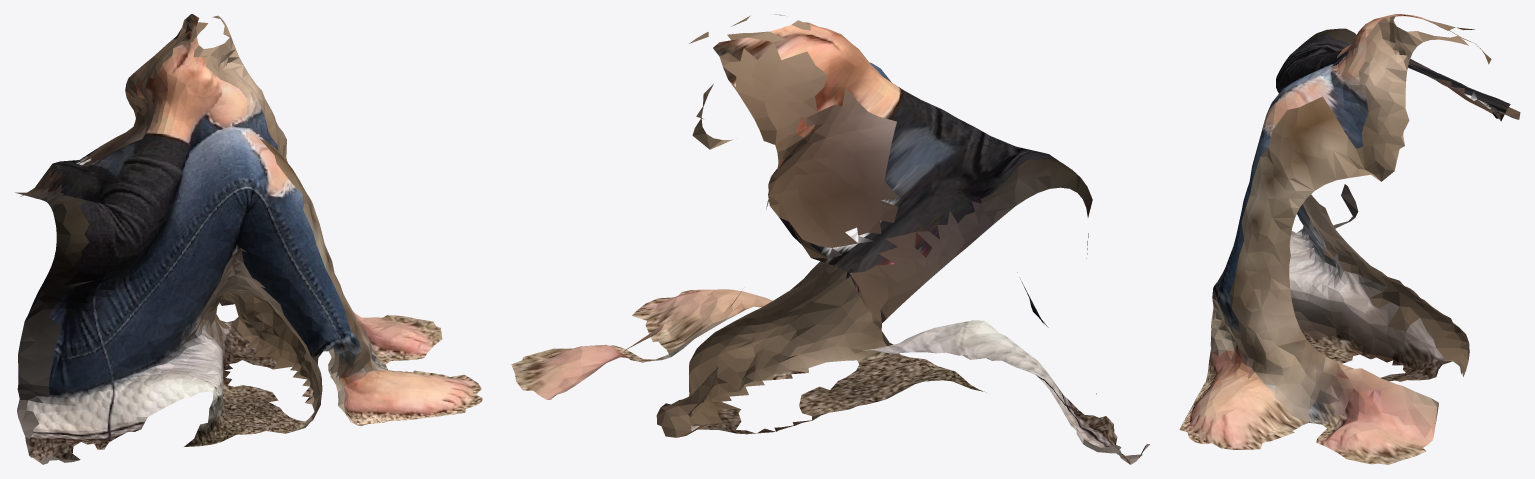
3 renders of one model, left to right at view 1: azimuth 30°, elevation 25°; view 2: azimuth 150°, elevation 25°; view 3: azimuth 270°, elevation 25°, orthographic. The views are drawn at different scales.
Size of the model in its own units: 0.7489 by 0.5204 by 0.4797.
Materials: 1 (1 with a texture image).
